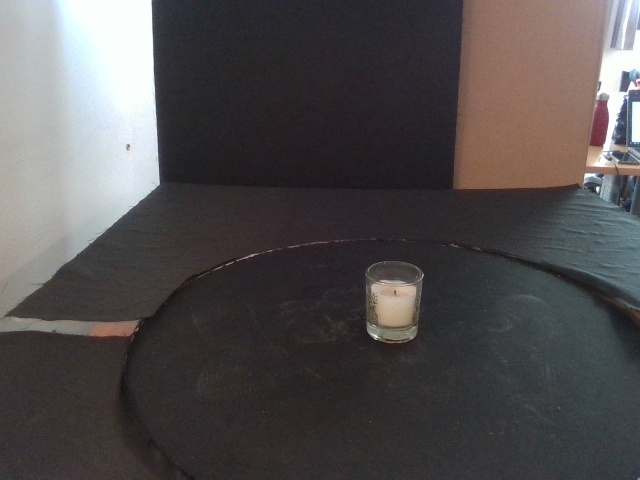candle: (365, 260, 424, 343)
